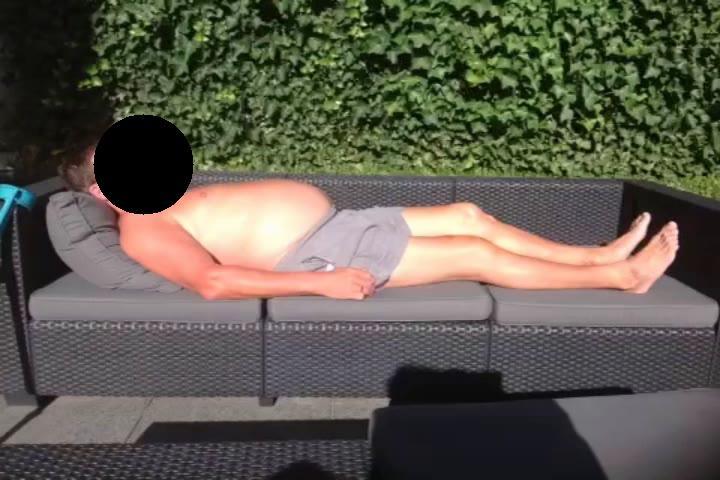lower_body: (313, 200, 682, 298)
